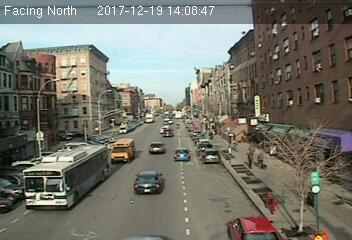bus: (23, 144, 112, 210)
car: (226, 216, 284, 240), (133, 170, 162, 195), (201, 148, 221, 163), (173, 146, 191, 162), (148, 142, 167, 155), (163, 128, 174, 137)
truck: (112, 137, 136, 161)
